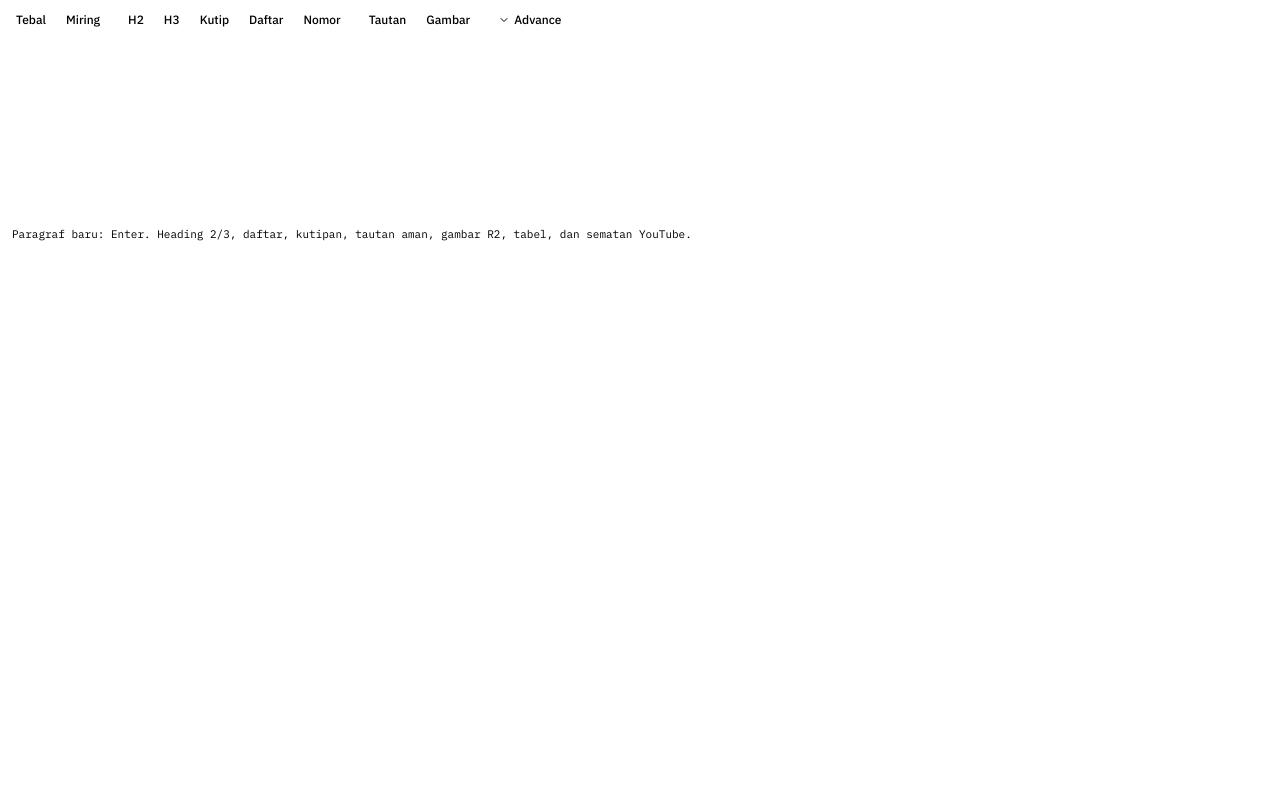
Test: RichTextEditor › menolak URL gambar yang tidak aman
Click the button with aria-label "Sisipkan gambar". click: (448, 20)
box: [418,8,478,32]
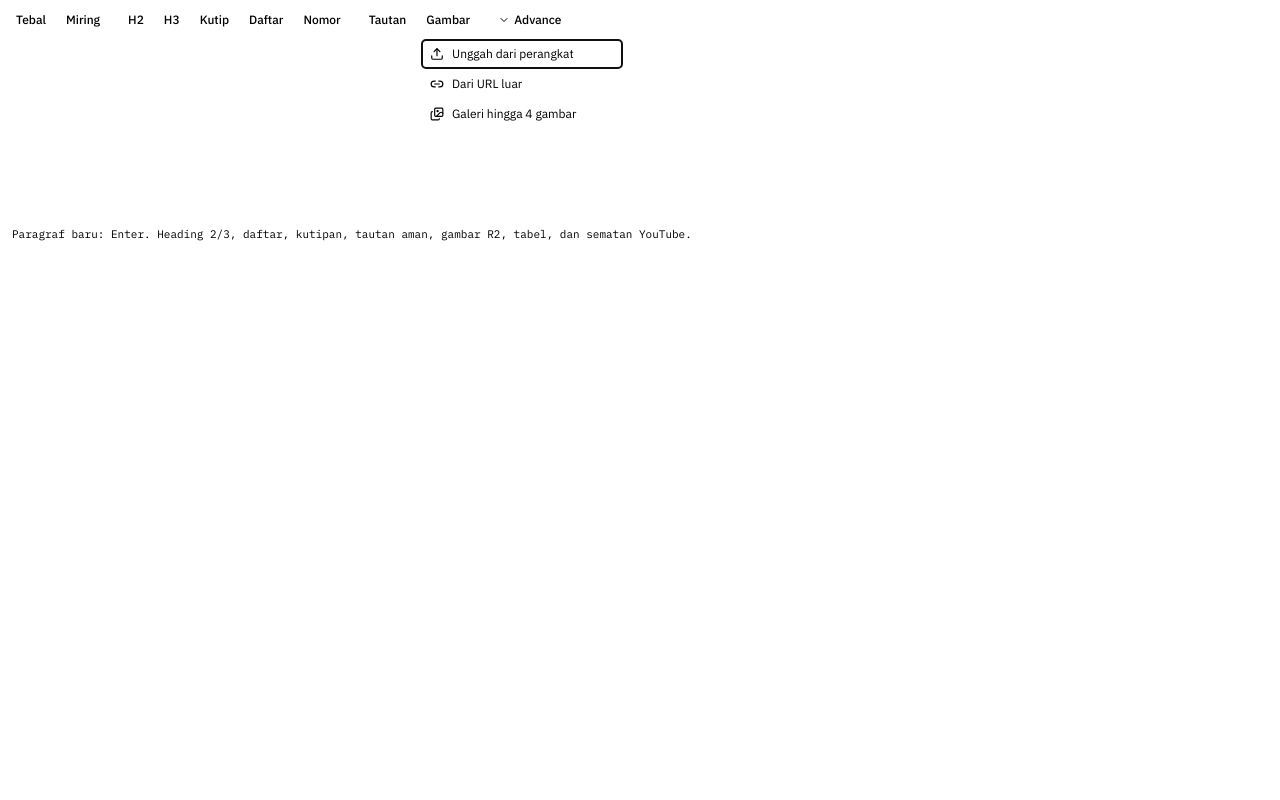
Click the menu item "Dari URL luar". click: (522, 84)
box: [422,70,622,98]
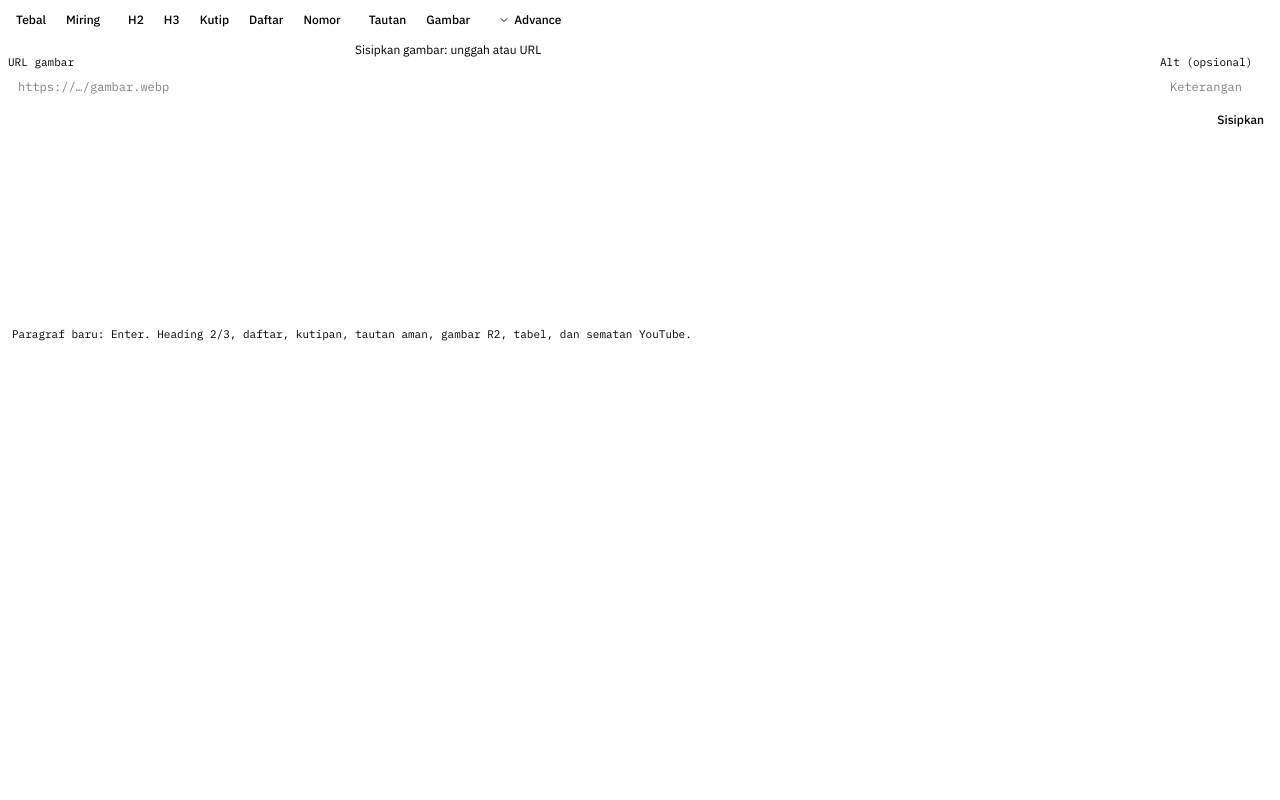
Type "notaurl" into the field labelled "URL gambar". click: (580, 86)
box: [8,72,1152,100]
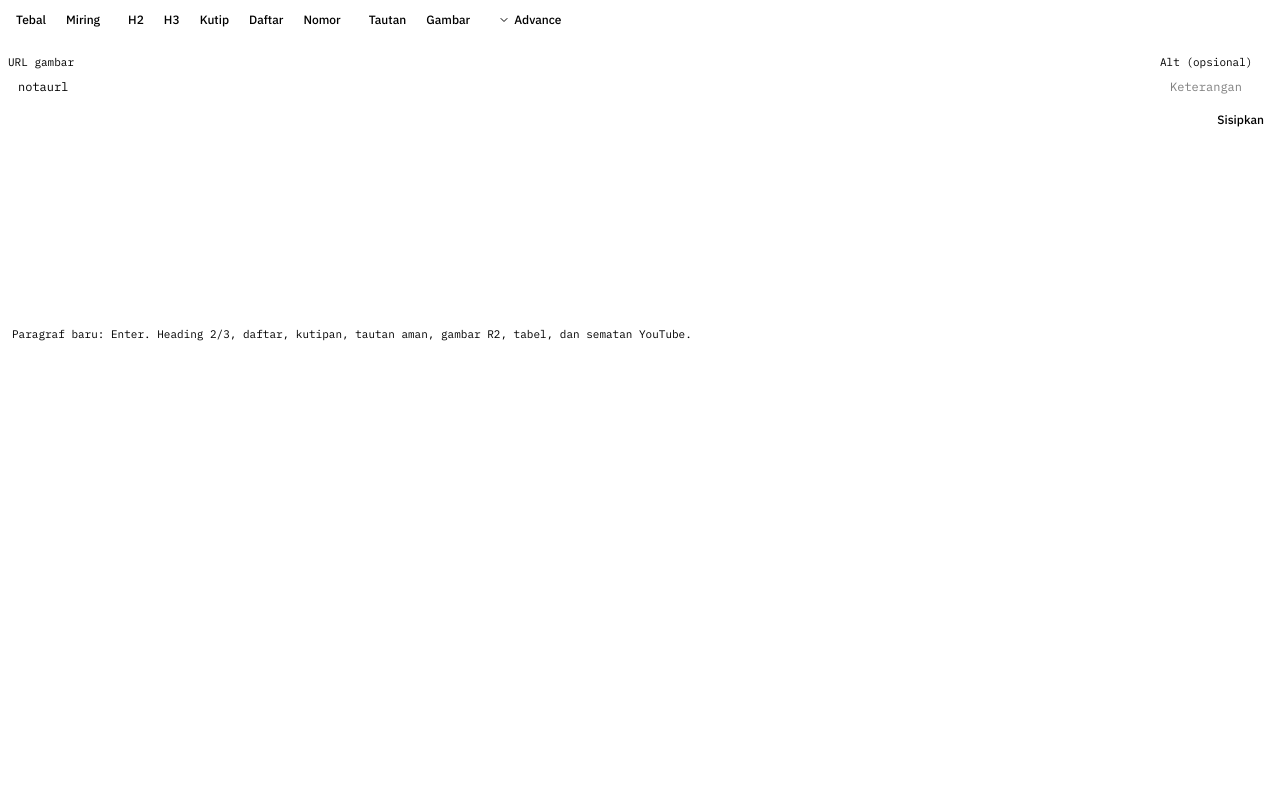
Click the button "Sisipkan". click: (1241, 120)
box: [1209,108,1272,132]
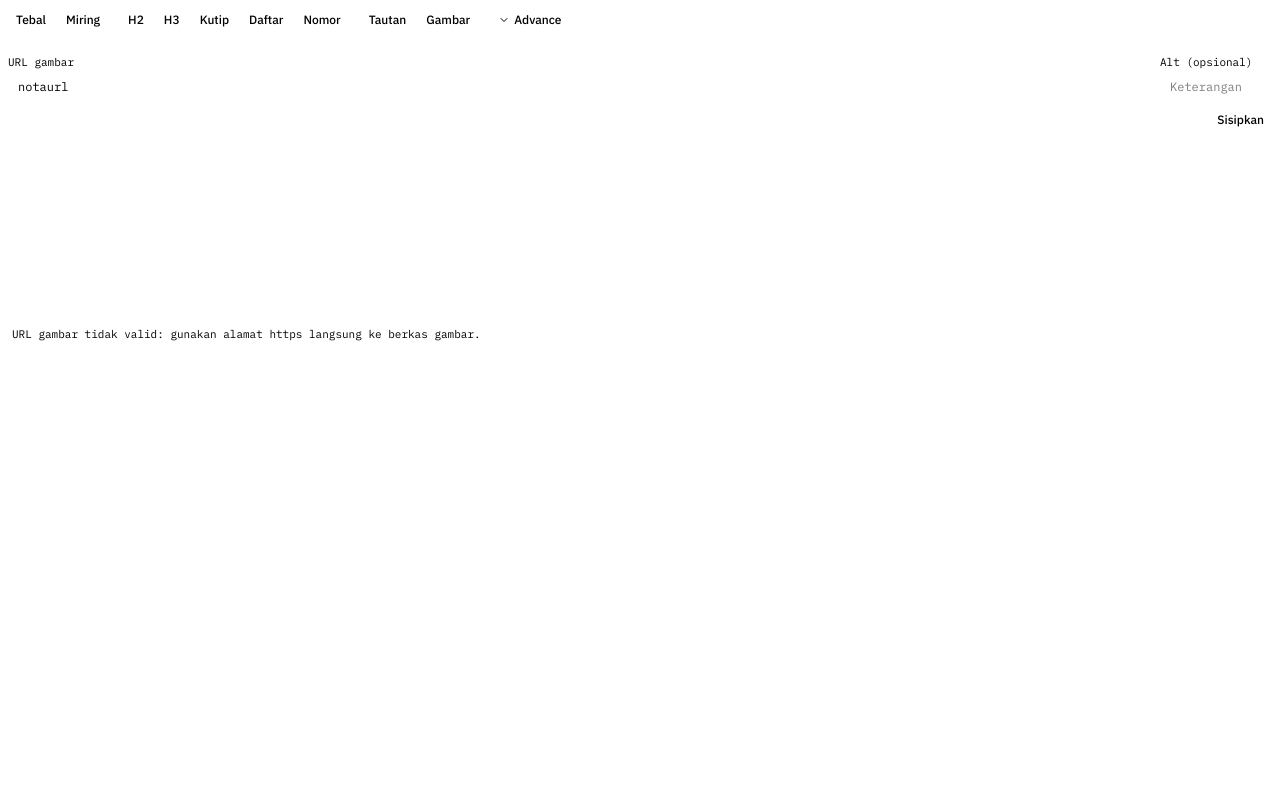
Expected: the message shows "tidak valid", [12,327,481,341]
